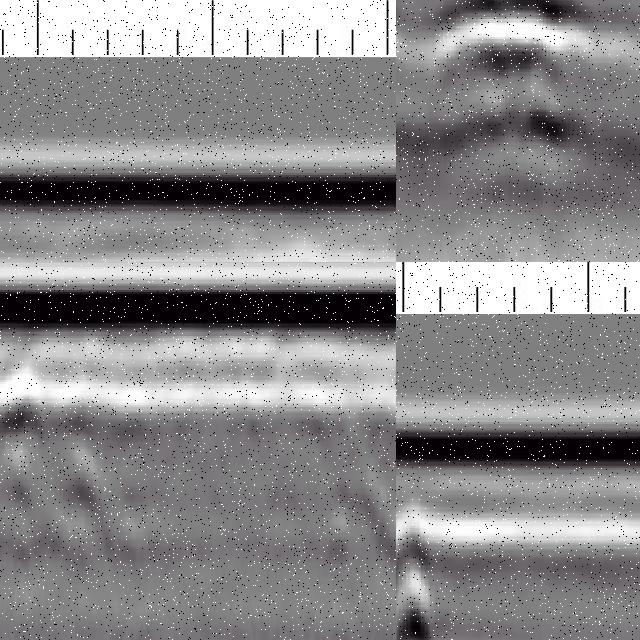crack: (397, 489, 442, 640)
loose: (397, 1, 605, 195), (1, 368, 140, 566), (309, 358, 397, 559)
